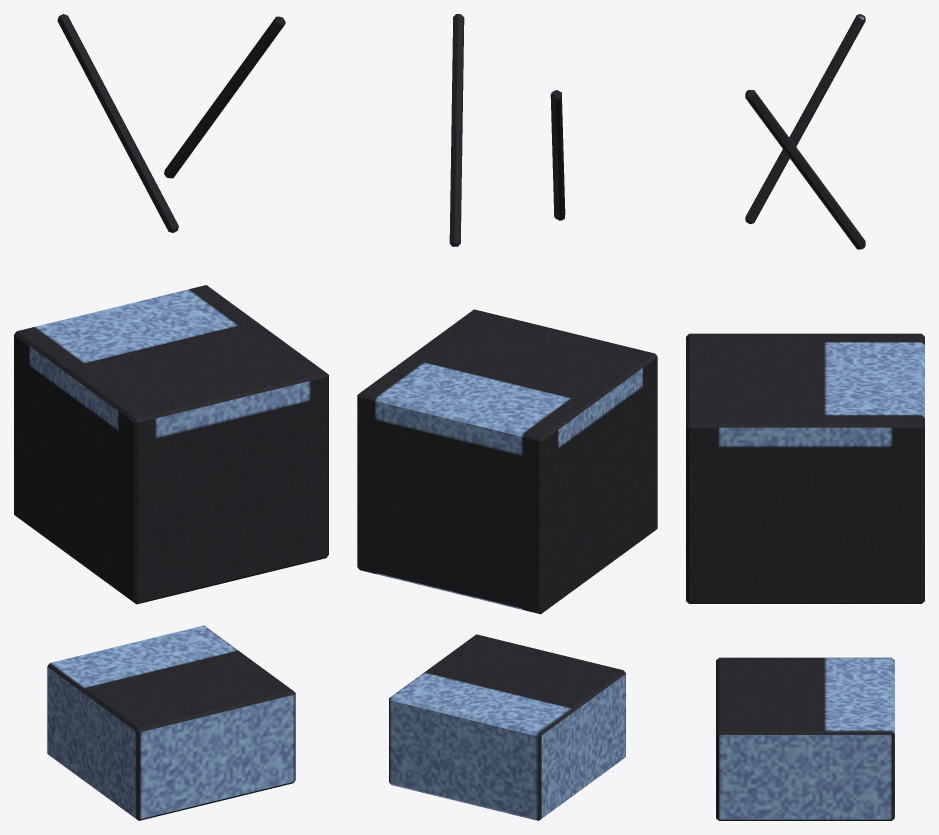
Rendered from CRTTV.glb.
3 renders of one model, left to right at view 1: azimuth 30°, elevation 25°; view 2: azimuth 150°, elevation 25°; view 3: azimuth 270°, elevation 25°, orthographic. The views are drawn at different scales.
Visible parts, largest first — view 1: CRTTV; view 2: CRTTV; view 3: CRTTV.
Boxes of the visible parts, x1=… form: CRTTV: x1=14, y1=14, x2=328, y2=820; CRTTV: x1=357, y1=14, x2=657, y2=820; CRTTV: x1=686, y1=14, x2=924, y2=820.
Bounding box in the file's own units: 0.55 × 2.03 × 0.6.
1 material, 1 textured.
